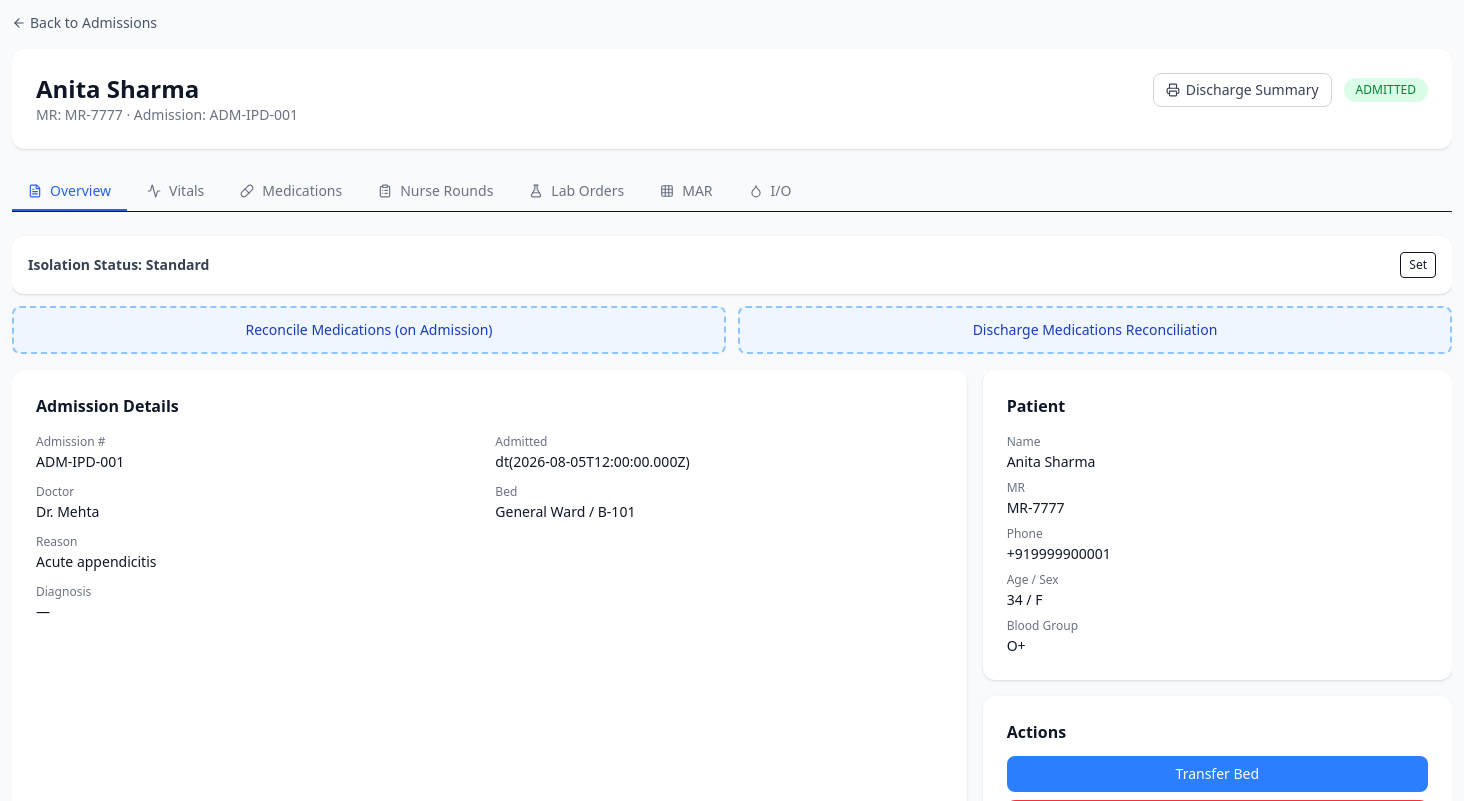
AdmissionDetailPage (IPD admission detail — top-level wiring + tabs) › clicking each tab swaps the active body
Check: the heading "Anita Sharma" is shown, box left=36, top=72, right=199, bottom=105
Check: the text "Blood Group" is shown, box left=1007, top=617, right=1078, bottom=634
Click the button "Vitals" at coordinates (176, 192), box left=131, top=173, right=220, bottom=211
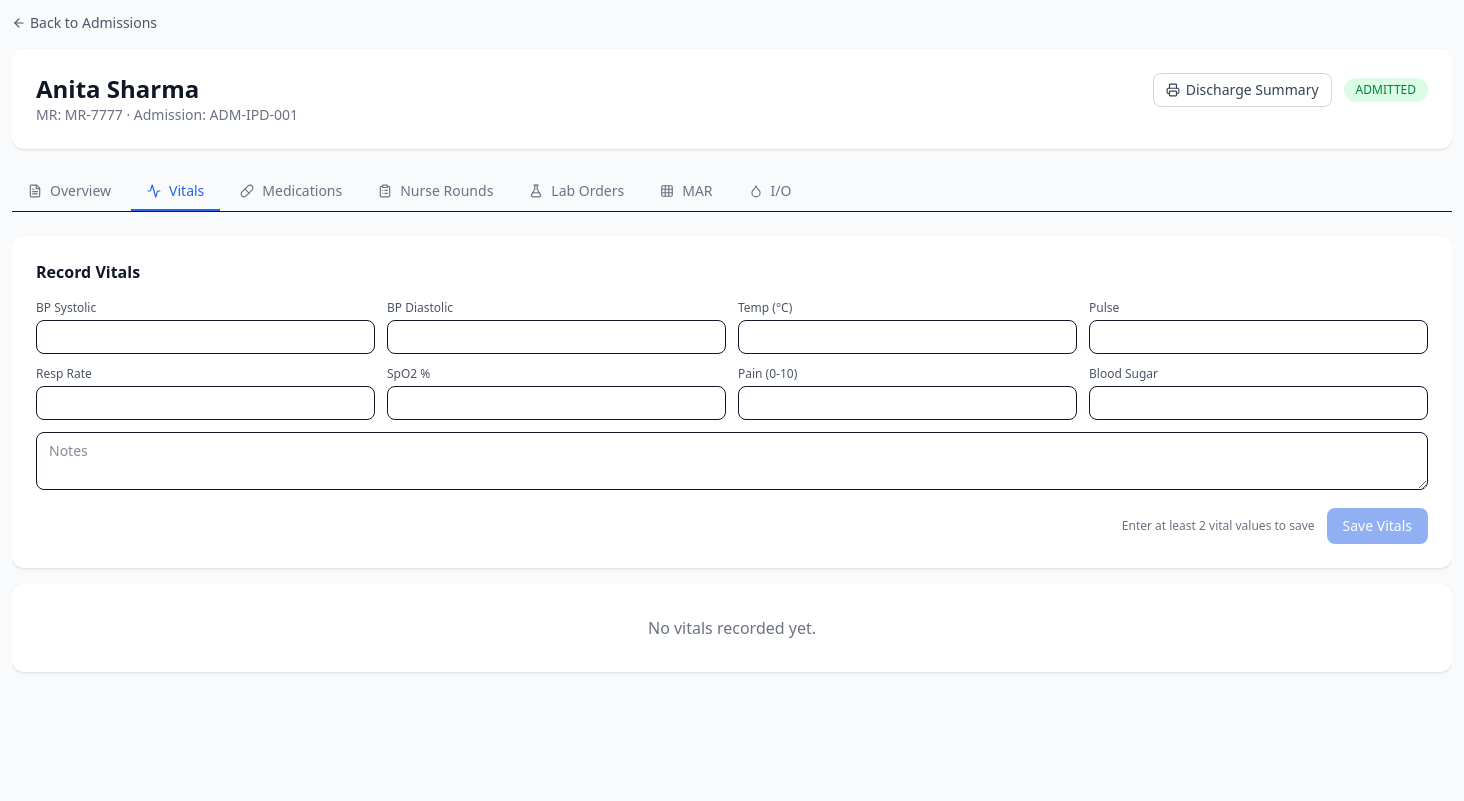
Check: the heading "Record Vitals" is shown, box left=36, top=261, right=140, bottom=283
Click the button "Medications" at coordinates (291, 192), box left=224, top=173, right=358, bottom=211
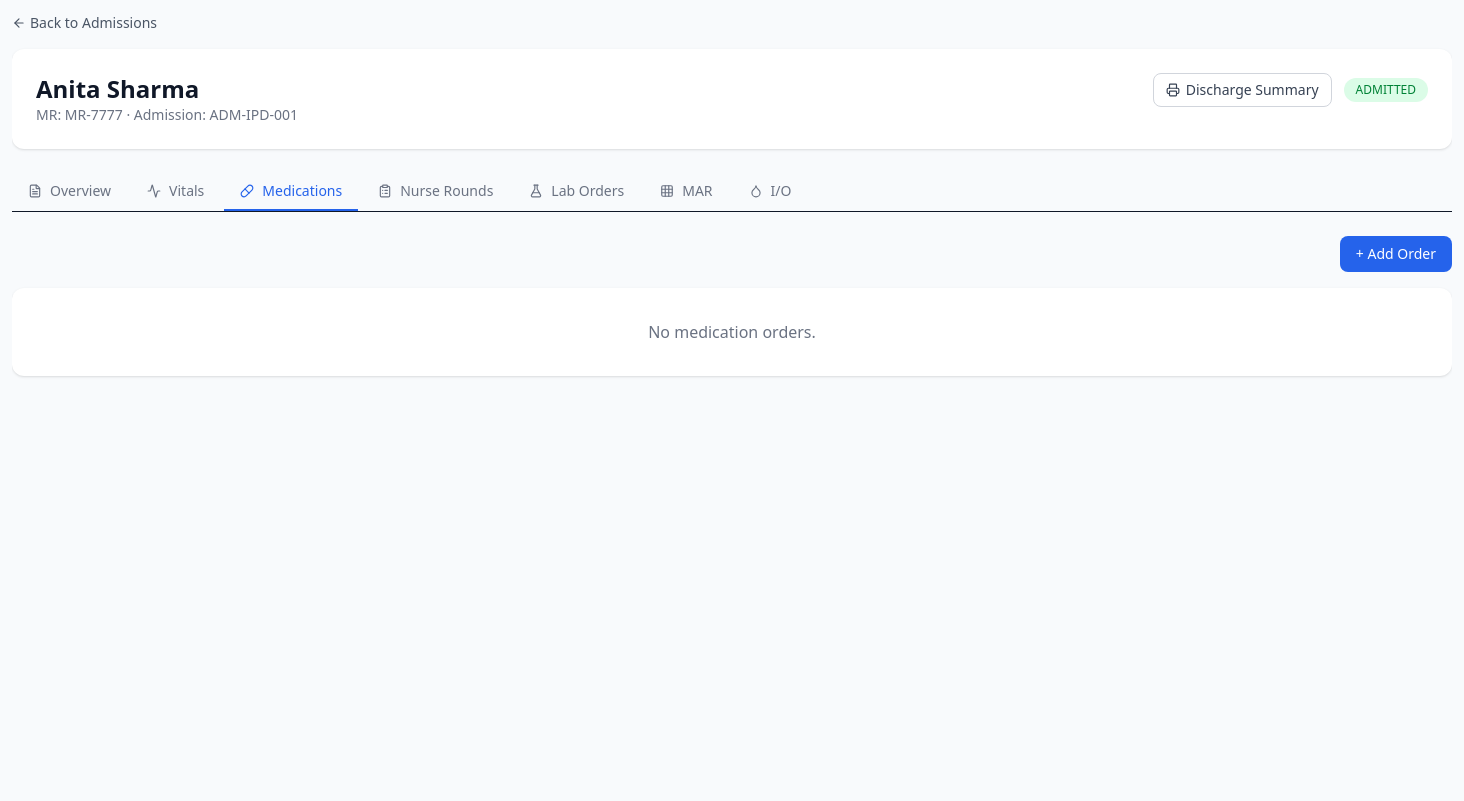
Check: the text "No medication orders." is shown, box left=12, top=288, right=1452, bottom=376
Click the button "Nurse Rounds" at coordinates (436, 192), box left=362, top=173, right=509, bottom=211
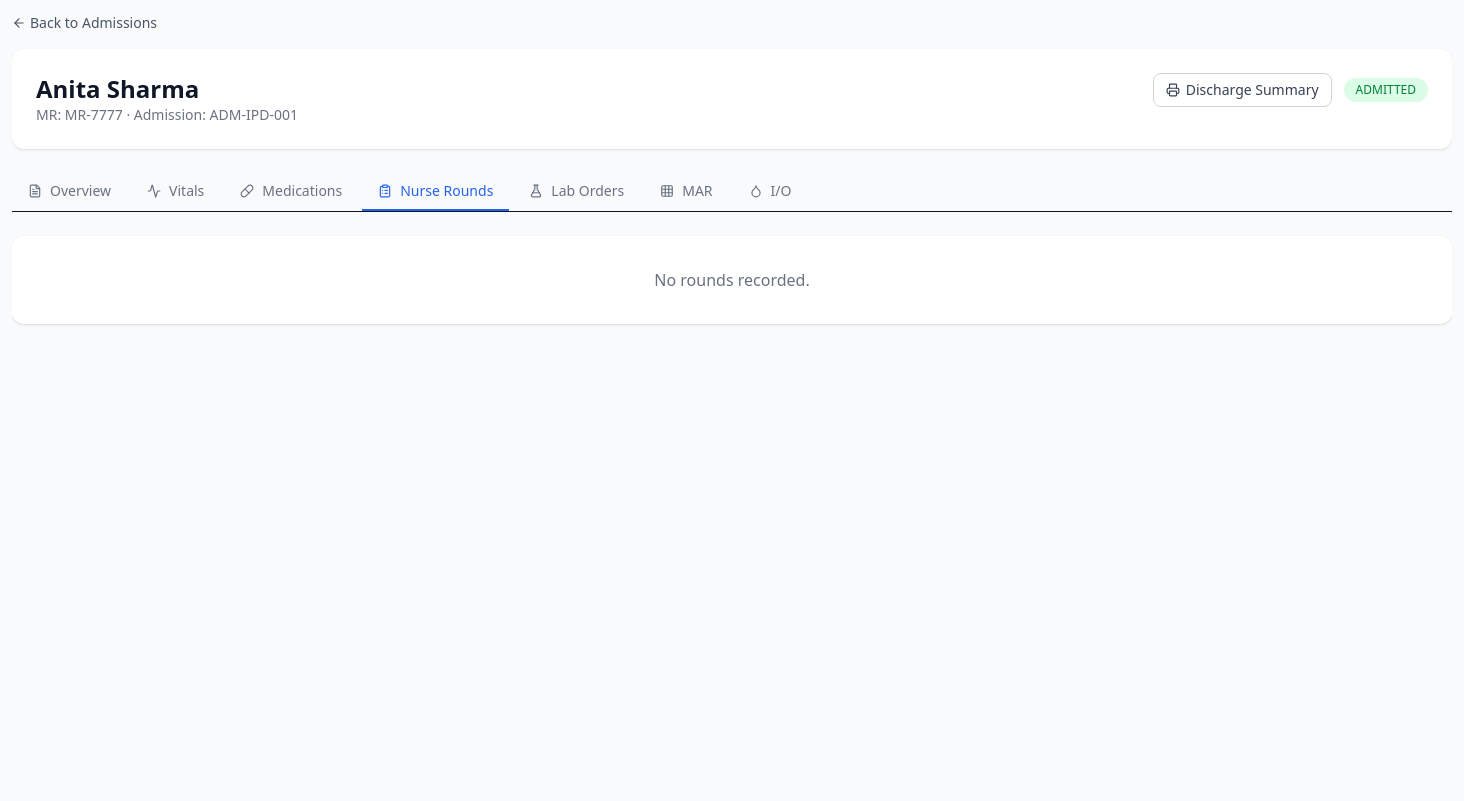
Check: the text "No rounds recorded." is shown, box left=12, top=236, right=1452, bottom=324
Click the button "Lab Orders" at coordinates (577, 192), box left=513, top=173, right=640, bottom=211
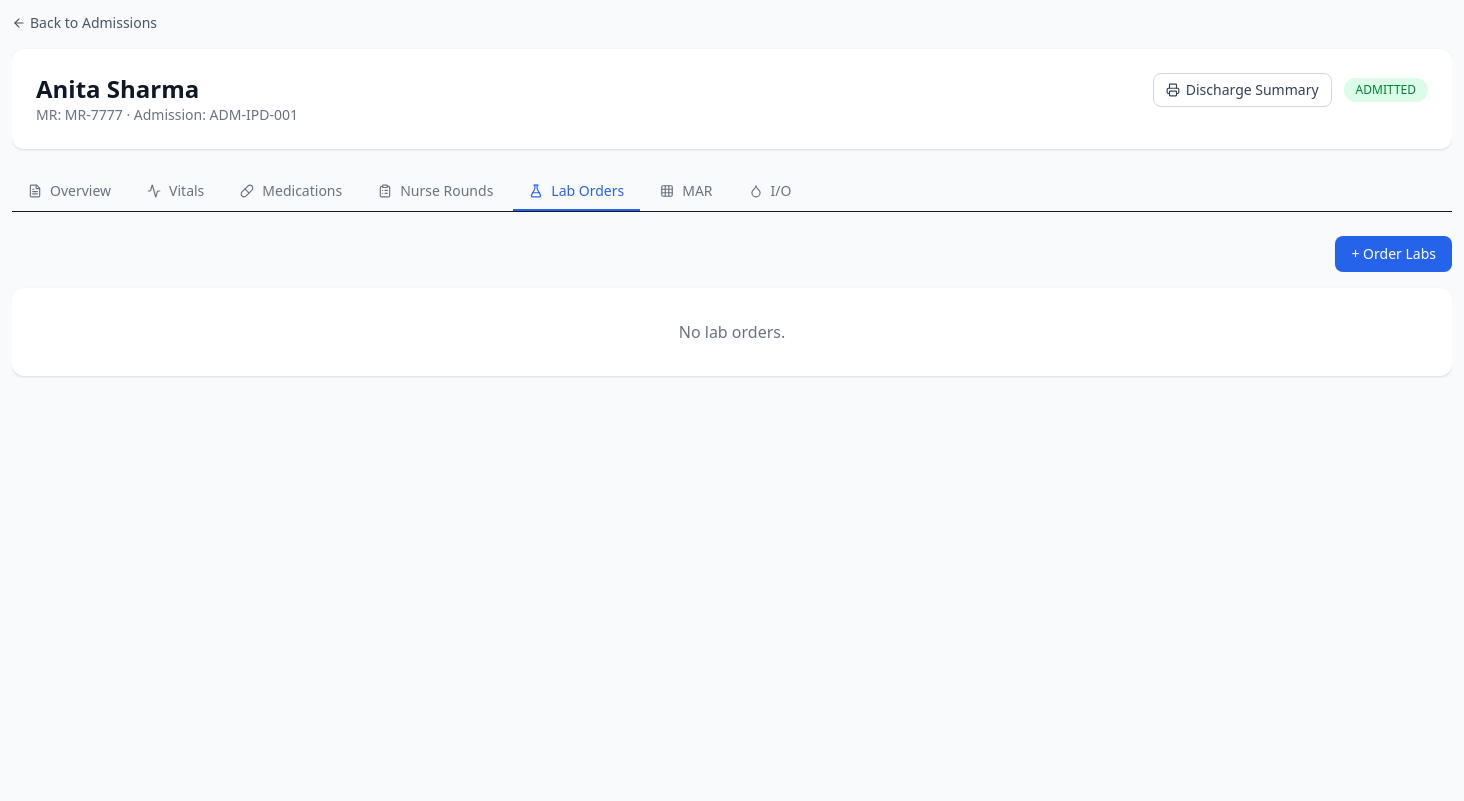
Check: the text "No lab orders." is shown, box left=12, top=288, right=1452, bottom=376
Click the button "MAR" at coordinates (686, 192), box left=644, top=173, right=729, bottom=211
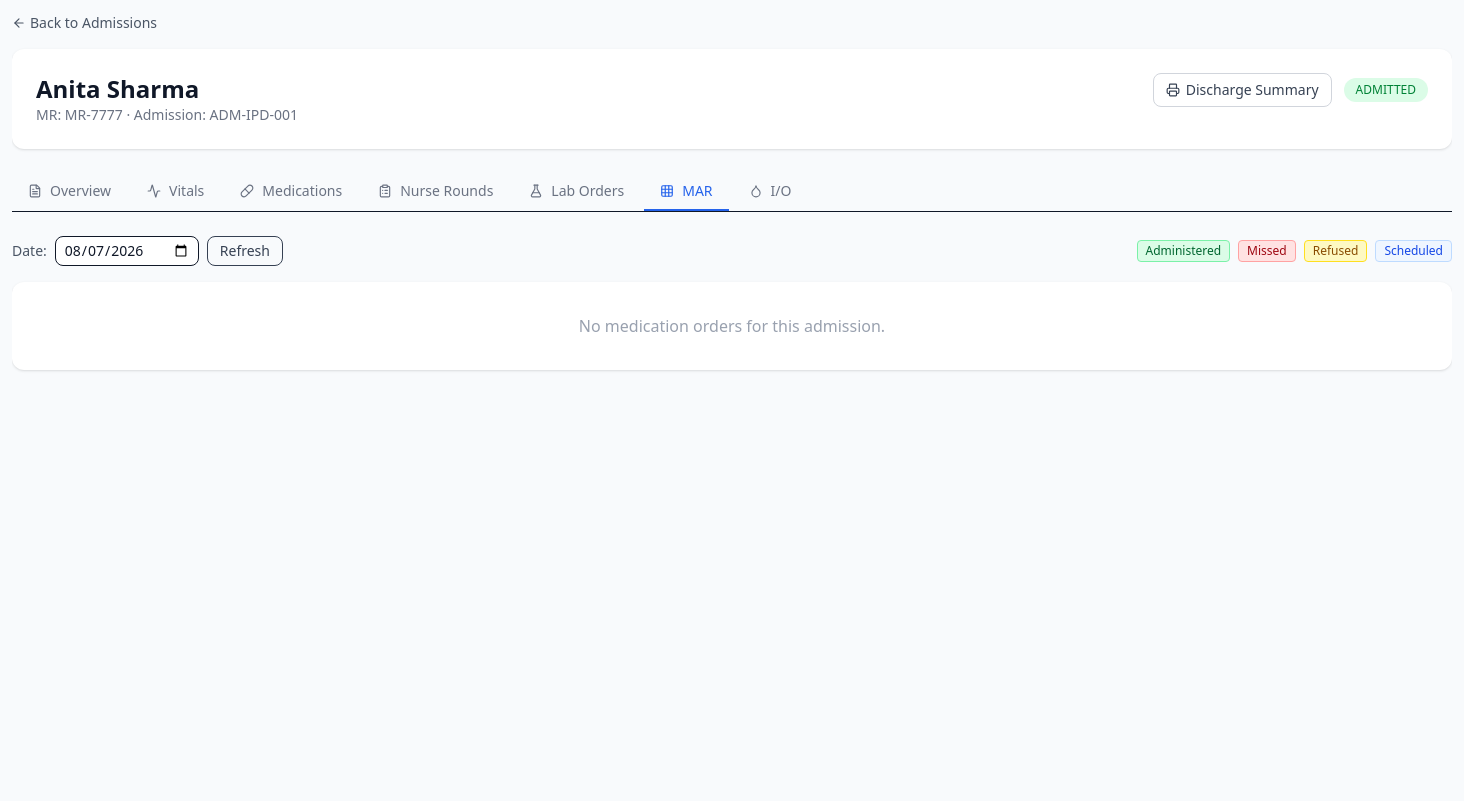
Check: the text "No medication orders for this admission." is shown, box left=579, top=315, right=885, bottom=337
Click the button "I/O" at coordinates (770, 192), box left=733, top=173, right=808, bottom=211
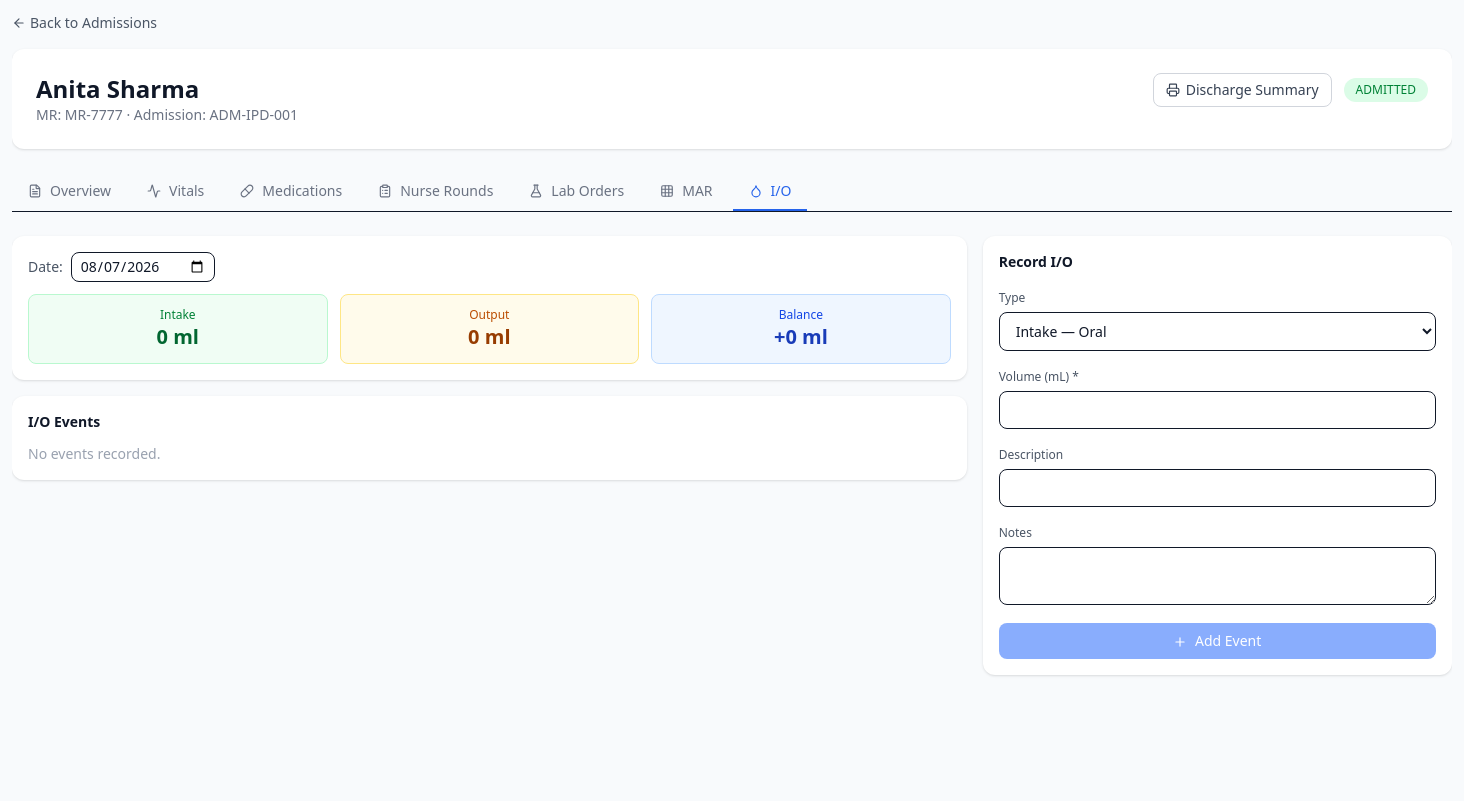
Check: the heading "I/O Events" is shown, box left=28, top=412, right=100, bottom=431
